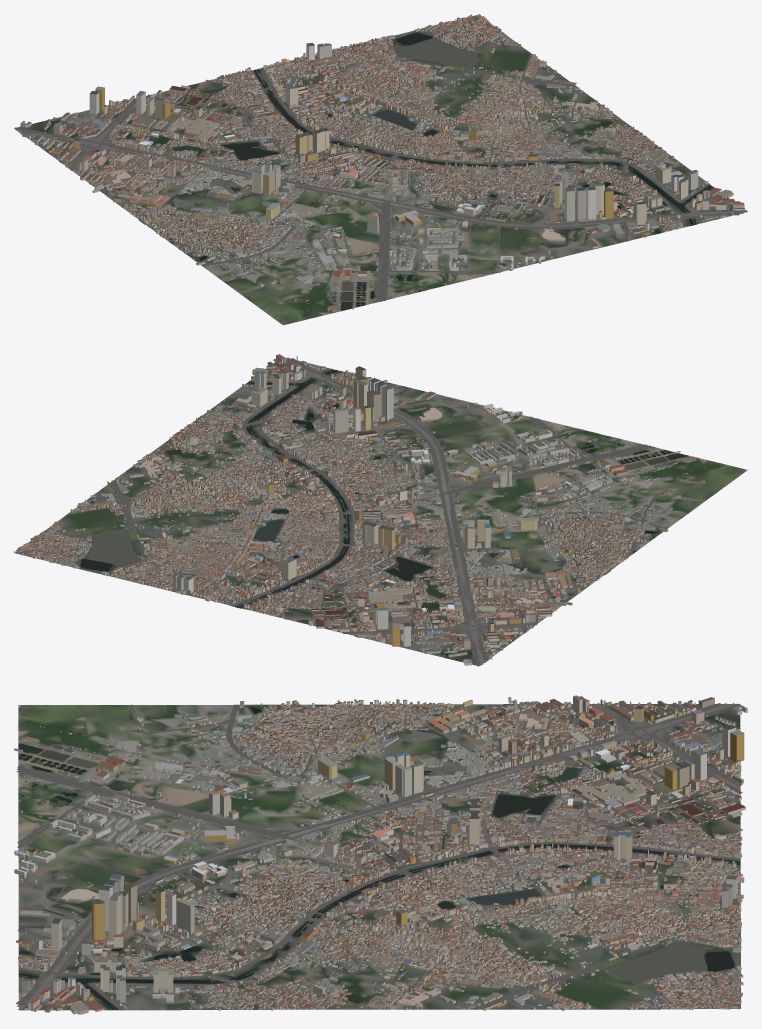
3 views of the same model, one above another, from view 1: azimuth 30°, elevation 25°; view 2: azimuth 150°, elevation 25°; view 3: azimuth 270°, elevation 25° (orthographic). The views are drawn at different scales.
Visible parts, largest first — view 1: buildings, ground, roads, water; view 2: buildings, ground, roads, water; view 3: buildings, ground, roads, water.
Part boxes in pixels (<box>): buildings: <box>20,14,745,311</box>; ground: <box>17,14,745,325</box>; roads: <box>14,30,747,302</box>; water: <box>51,32,711,310</box>; buildings: <box>14,354,706,665</box>; ground: <box>14,357,747,666</box>; roads: <box>59,357,706,666</box>; water: <box>80,369,688,656</box>; buildings: <box>14,695,747,1014</box>; ground: <box>18,704,740,1010</box>; roads: <box>16,703,742,1010</box>; water: <box>18,704,740,1010</box>.
Bounding box in the file's own units: 2883 × 179 × 2850.
